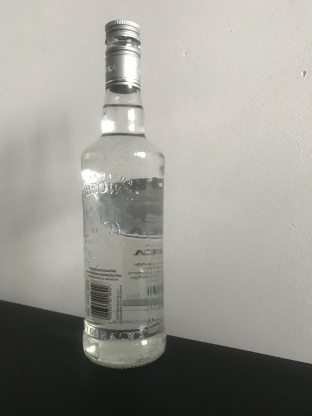nakretka: (103, 17, 143, 94)
